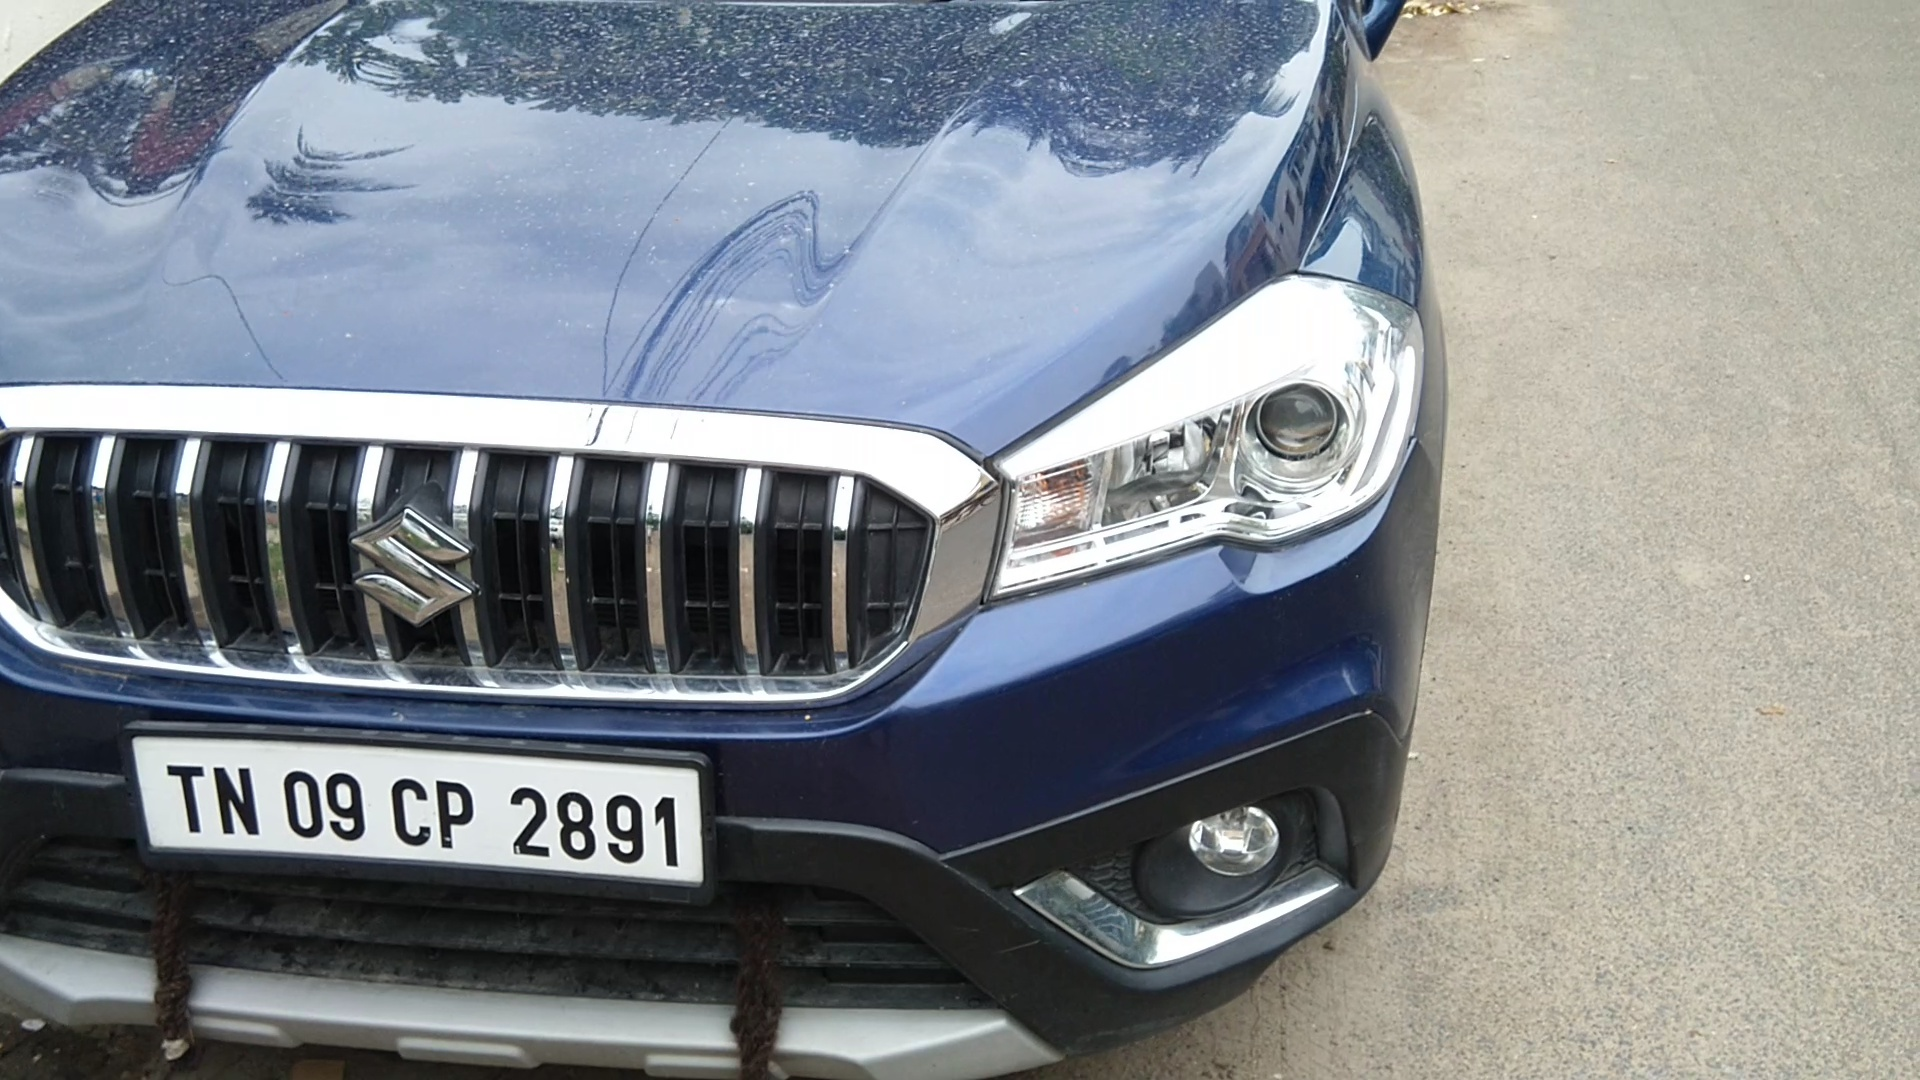front_grill: (1, 367, 997, 728)
headlamp: (992, 252, 1435, 618)
